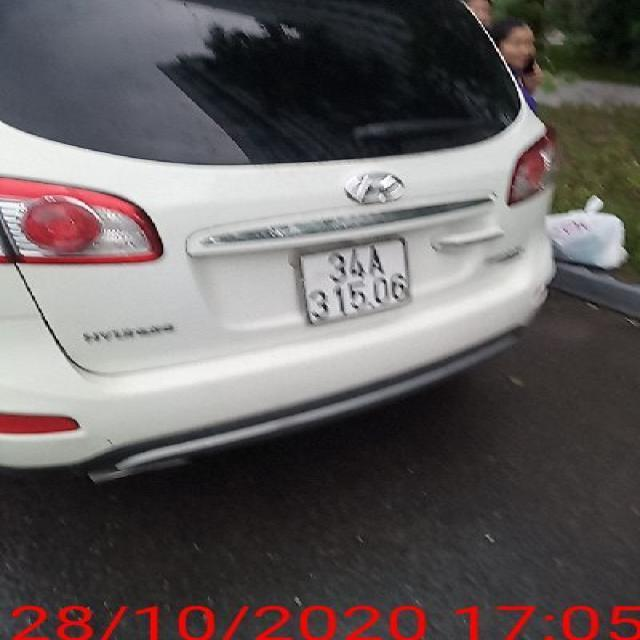bien_so_oto: (294, 235, 413, 328)
